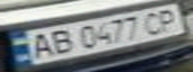0: (75, 22, 100, 50)
4: (93, 19, 115, 47)
7: (121, 12, 145, 41), (109, 16, 130, 44)
A: (24, 30, 57, 61)
B: (45, 27, 78, 56)
C: (139, 8, 169, 36)
P: (151, 6, 184, 33)
